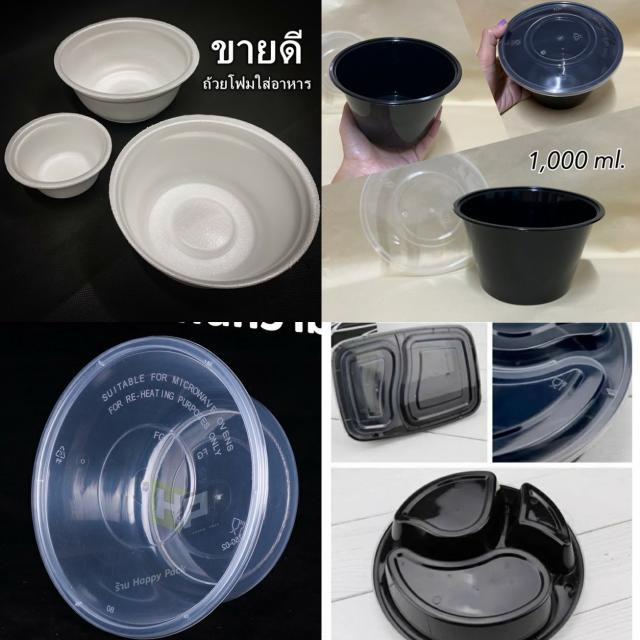plastik: (32, 336, 299, 638), (110, 115, 320, 288), (373, 471, 583, 640), (493, 323, 632, 462), (453, 187, 605, 304), (332, 326, 481, 441), (54, 17, 199, 123), (360, 154, 487, 274), (329, 38, 462, 147), (499, 2, 623, 109), (5, 113, 112, 198)
